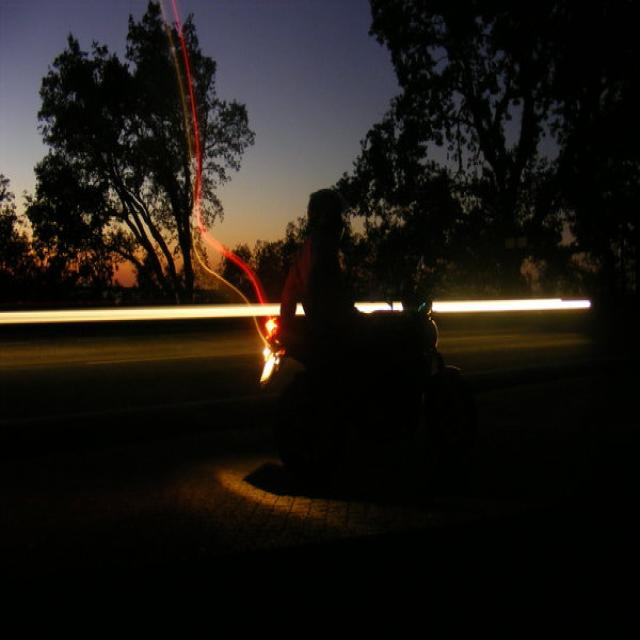Motorbike: (229, 188, 473, 502)
